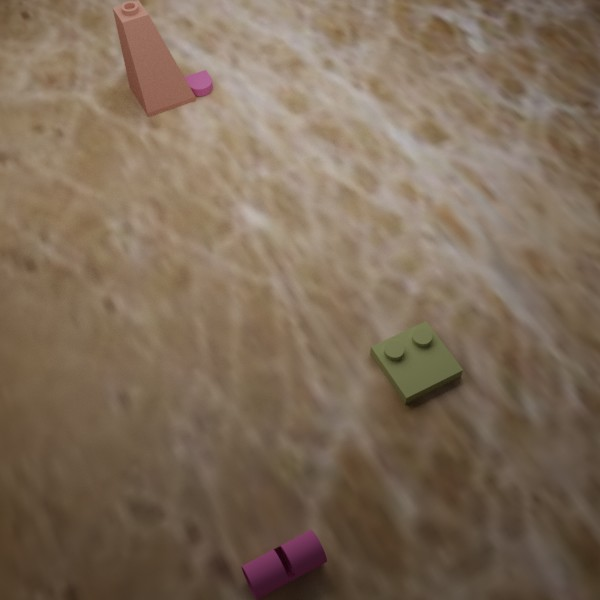lego: (112, 0, 196, 117), (369, 321, 463, 404), (241, 529, 327, 599), (182, 69, 212, 96)
